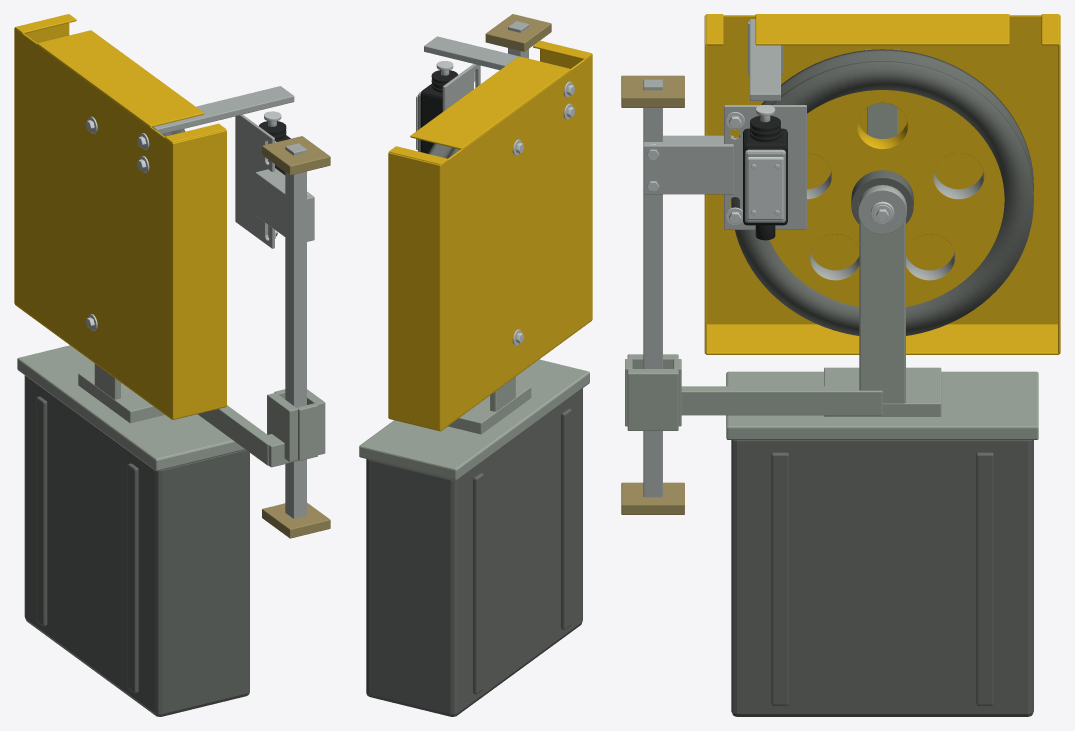
File: pit_tensioner.glb
The picture shows the model from 3 angles, left to right: view 1: azimuth 30°, elevation 25°; view 2: azimuth 150°, elevation 25°; view 3: azimuth 270°, elevation 25°; orthographic projection. The views are drawn at different scales.
Parts seen in each view (by area): view 1: ProtectiveGuard_Tensioner safety yellow, WeightAndYoke_Cast iron grey, WeightAndYoke_Guide grey green, FixedGuide_Galvanized steel, FixedGuide_Chromate bracket, SwitchStriker_Galvanized steel; view 2: ProtectiveGuard_Tensioner safety yellow, WeightAndYoke_Cast iron grey, WeightAndYoke_Guide grey green, SwitchStriker_Galvanized steel, FixedGuide_Chromate bracket, FixedGuide_Galvanized steel, TensionSwitch_Rubber seals; view 3: WeightAndYoke_Cast iron grey, ProtectiveGuard_Tensioner safety yellow, WeightAndYoke_Guide grey green, TensionSheave_Tensioner safety yellow, TensionSheave_Cast iron grey, FixedGuide_Galvanized steel, FixedGuide_Chromate bracket, TensionSwitch_Zinc fasteners, SwitchStriker_Galvanized steel, TensionSwitch_Rubber seals, WeightAndYoke_Galvanized steel, FixedGuide_Zinc fasteners (+1 smaller).
Boxes of the visible parts, x1,y1,x2,y2 form: ProtectiveGuard_Tensioner safety yellow: (14,14,226,419); WeightAndYoke_Cast iron grey: (24,375,249,716); WeightAndYoke_Guide grey green: (17,345,325,471); FixedGuide_Galvanized steel: (235,114,314,518); FixedGuide_Chromate bracket: (262,136,330,538); SwitchStriker_Galvanized steel: (152,86,294,133); ProtectiveGuard_Tensioner safety yellow: (388,40,592,431); WeightAndYoke_Cast iron grey: (366,388,582,716); WeightAndYoke_Guide grey green: (359,359,589,480); SwitchStriker_Galvanized steel: (424,36,518,69); FixedGuide_Chromate bracket: (485,14,551,51); FixedGuide_Galvanized steel: (442,21,528,111); TensionSwitch_Rubber seals: (420,70,457,153); WeightAndYoke_Cast iron grey: (731,440,1033,716); ProtectiveGuard_Tensioner safety yellow: (704,14,1060,354); WeightAndYoke_Guide grey green: (625,49,1038,439); TensionSheave_Tensioner safety yellow: (769,90,1004,306); TensionSheave_Cast iron grey: (731,49,1033,335); FixedGuide_Galvanized steel: (643,79,806,497); FixedGuide_Chromate bracket: (621,75,684,514); TensionSwitch_Zinc fasteners: (747,105,783,219); SwitchStriker_Galvanized steel: (748,19,782,100); TensionSwitch_Rubber seals: (743,115,787,240); WeightAndYoke_Galvanized steel: (858,185,906,234); FixedGuide_Zinc fasteners: (647,112,744,225).
Bounding box in the file's own units: 0.211 × 0.7433 × 0.4497.
